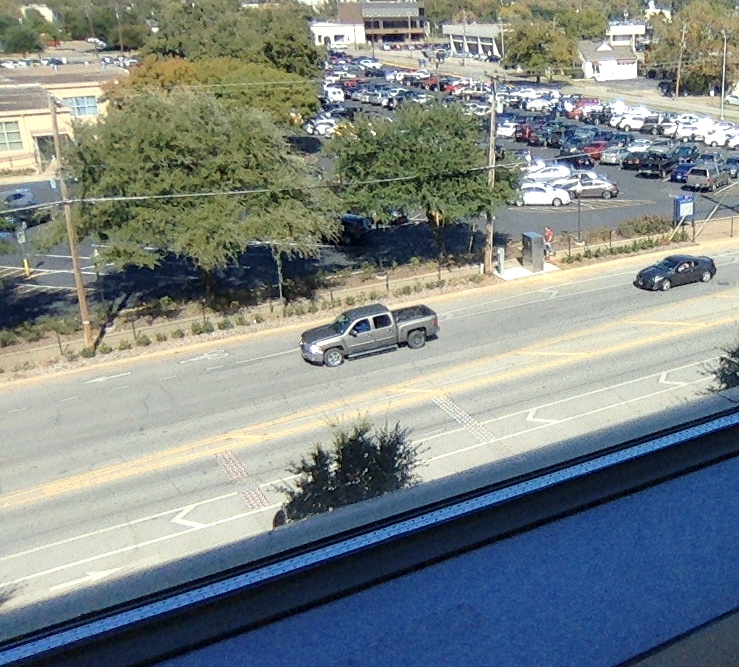car: (300, 300, 439, 367)
